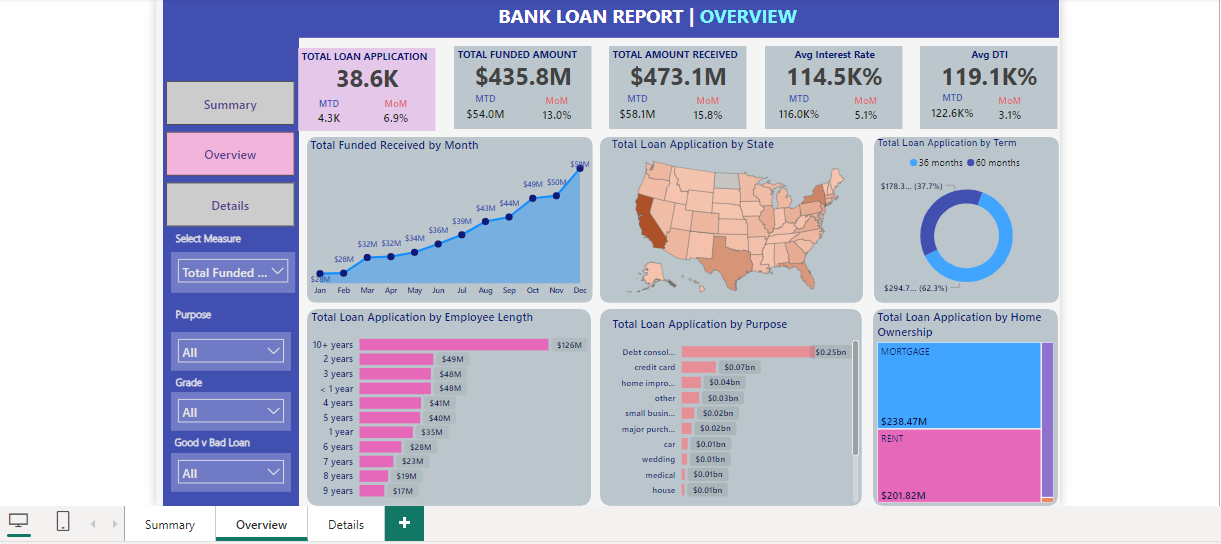

This screenshot's page, from the dashboard's own definition file:
{"tool":"powerbi","page":{"name":"Overview","canvas":[1280,720],"ordinal":1},"visuals":[{"type":"shape","box":[9.9,55.3,192.8,664.7],"z":0},{"type":"shape","box":[422,68.7,194.9,117.6],"z":0,"group":"g2"},{"type":"shape","box":[642.3,68.7,194.9,117.6],"z":0,"group":"g3"},{"type":"shape","box":[862.7,68.7,194.9,117.6],"z":0,"group":"g4"},{"type":"shape","box":[1083.1,68.7,194.9,117.6],"z":0,"group":"g5"},{"type":"shape","box":[201.6,71.5,194.9,117.6],"z":0,"group":"g1"},{"type":"shape","box":[10.1,1.7,1269.9,55.4],"z":1000},{"type":"textbox","box":[421.7,65.2,197,45.4],"z":1000,"group":"g2"},{"type":"textbox","box":[642,65.2,197,45.4],"z":1000,"group":"g3"},{"type":"textbox","box":[862.4,65.2,197,45.4],"z":1000,"group":"g4"},{"type":"textbox","box":[1082.8,65.2,197,45.4],"z":1000,"group":"g5"},{"type":"textbox","box":[201.3,68,197,45.4],"z":1000,"group":"g1"},{"type":"card","fields":{"Values":["Bank_loan_Data.Total Funded Amount"]},"box":[421.7,85,195.6,51],"z":2000,"group":"g2"},{"type":"card","fields":{"Values":["Bank_loan_Data.Total Funded Received"]},"box":[642,85,195.6,51],"z":2000,"group":"g3"},{"type":"card","fields":{"Values":["Bank_loan_Data.Avg Interest Rate"]},"box":[862.4,85,195.6,51],"z":2000,"group":"g4"},{"type":"card","fields":{"Values":["Bank_loan_Data.Avg DTI"]},"box":[1082.8,85,195.6,51],"z":2000,"group":"g5"},{"type":"card","fields":{"Values":["Bank_loan_Data.Total Loan Application"]},"box":[201.3,87.8,195.6,51],"z":2000,"group":"g1"},{"type":"shape","box":[214,197,405,235],"z":2000},{"type":"card","title":"MTD","fields":{"Values":["Bank_loan_Data.MTD Average DTI"]},"box":[1092.4,131.5,72.3,49.6],"z":3000,"group":"g5"},{"type":"card","title":"MTD","fields":{"Values":["Bank_loan_Data.MTD Funded Amount"]},"box":[433.1,133,66.6,49.6],"z":3000,"group":"g2"},{"type":"card","title":"MTD","fields":{"Values":["Bank_loan_Data.MTD Funded Received"]},"box":[646.8,133,72.3,49.6],"z":3000,"group":"g3"},{"type":"card","title":"MTD","fields":{"Values":["Bank_loan_Data.MTD Average Interest Rate"]},"box":[875.8,133,70.9,49.6],"z":3000,"group":"g4"},{"type":"card","title":"MTD","fields":{"Values":["Bank_loan_Data.MTD Loan Applications"]},"box":[216.5,140.4,56.7,45.4],"z":3000,"group":"g1"},{"type":"textbox","box":[475.4,1.7,443.5,57.1],"z":4000},{"type":"card","title":"MoM","fields":{"Values":["Bank_loan_Data.MoM Funded Amount"]},"box":[539.4,135.8,56.7,45.4],"z":4000,"group":"g2"},{"type":"card","title":"MoM","fields":{"Values":["Bank_loan_Data.MoM Funded Received"]},"box":[754.5,135.8,56.7,45.4],"z":4000,"group":"g3"},{"type":"card","title":"MoM","fields":{"Values":["Bank_loan_Data.MoM Avg Int Rate"]},"box":[977.8,135.8,56.7,45.4],"z":4000,"group":"g4"},{"type":"card","title":"MoM","fields":{"Values":["Bank_loan_Data.MoM Avg DTI"]},"box":[1182,136.1,56.7,45.4],"z":4000,"group":"g5"},{"type":"card","title":"MoM","fields":{"Values":["Bank_loan_Data.MoM Loan Application"]},"box":[311.5,140.4,56.7,45.4],"z":4000,"group":"g1"},{"type":"group","id":"g1","title":"Group 1","box":[201.3,68,197,120.5],"z":5000},{"type":"group","id":"g2","title":"Group 1","box":[421.7,65.2,197,121.1],"z":6000},{"type":"group","id":"g3","title":"Group 1","box":[642,65.2,197,121.1],"z":7000},{"type":"group","id":"g4","title":"Group 1","box":[862.4,65.2,197,121.1],"z":8000},{"type":"group","id":"g5","title":"Group 1","box":[1082.8,65.2,197,120.5],"z":9000},{"type":"shape","box":[629.3,197,372.8,235.3],"z":10000},{"type":"slicer","fields":{"Values":["Bank_loan_Data.Good v Bad Loan"]},"box":[21.3,644.9,170.1,55.3],"z":12000},{"type":"textbox","box":[21.3,613.7,170.1,31.2],"z":13000},{"type":"slicer","fields":{"Values":["Bank_loan_Data.grade"]},"box":[21.3,558.4,170.1,55.3],"z":14000},{"type":"textbox","box":[22.7,528.7,82.2,29.8],"z":15000},{"type":"slicer","fields":{"Values":["Bank_loan_Data.purpose"]},"box":[21.3,473.4,170.1,55.3],"z":16000},{"type":"textbox","box":[22.7,432.3,89.3,35.4],"z":17000},{"type":"areaChart","fields":{"Category":["Date Table.Month"],"Y":["Bank_loan_Data.Total Funded Received"]},"box":[214,197,405.4,235.3],"z":18000},{"type":"slicer","fields":{"Values":["Select Measure.Select Measure"]},"box":[21.3,360,175.7,58.1],"z":19000},{"type":"textbox","box":[22.7,324.6,131.8,35.4],"z":19001},{"type":"shapeMap","title":"Total Loan Application by State","fields":{"Category":["Bank_loan_Data.address_state"],"Value":["Bank_loan_Data.Total Funded Received"]},"box":[640.6,197,361.4,235.3],"z":19002},{"type":"shape","box":[1017.6,197,262.2,235.3],"z":19003},{"type":"donutChart","title":"Total Loan Application by Term","fields":{"Category":["Bank_loan_Data.term"],"Y":["Bank_loan_Data.Total Funded Received"]},"box":[1017.6,197,262.2,235.3],"z":19004},{"type":"shape","box":[214,440.8,402.5,279.2],"z":19005},{"type":"barChart","title":"Total Loan Application by Employee Length","fields":{"Category":["Bank_loan_Data.emp_length"],"Y":["Bank_loan_Data.Total Funded Received"]},"box":[215.4,440.8,401.1,279.2],"z":19006},{"type":"shape","box":[629.3,440.8,371.3,279.2],"z":19007},{"type":"barChart","title":"Total Loan Application by Purpose","fields":{"Category":["Bank_loan_Data.purpose"],"Y":["Bank_loan_Data.Total Funded Received"]},"box":[642,450.7,358.6,269.3],"z":19008},{"type":"shape","box":[1016.2,440.8,262.2,279.2],"z":19009},{"type":"treemap","title":"Total Loan Application by Home Ownership","fields":{"Group":["Bank_loan_Data.home_ownership"],"Values":["Bank_loan_Data.Total Funded Received"]},"box":[1017.6,440.8,259.4,279.2],"z":19010},{"type":"pageNavigator","box":[14.2,117.6,182.8,206.9],"z":19011}]}

Visuals, with their boxes on the page's 1280x720 design canvas (x1, y1, x2, y2). These are canvas units, not pixel positions in the 1221x544 screenshot, which may show the page scaled, cropped or inside an application window:
shape: bbox=[10, 55, 203, 720]
shape: bbox=[422, 69, 617, 186]
shape: bbox=[642, 69, 837, 186]
shape: bbox=[863, 69, 1058, 186]
shape: bbox=[1083, 69, 1278, 186]
shape: bbox=[202, 72, 396, 189]
shape: bbox=[10, 2, 1280, 57]
textbox: bbox=[422, 65, 619, 111]
textbox: bbox=[642, 65, 839, 111]
textbox: bbox=[862, 65, 1059, 111]
textbox: bbox=[1083, 65, 1280, 111]
textbox: bbox=[201, 68, 398, 113]
card - Bank_loan_Data.Total Funded Amount: bbox=[422, 85, 617, 136]
card - Bank_loan_Data.Total Funded Received: bbox=[642, 85, 838, 136]
card - Bank_loan_Data.Avg Interest Rate: bbox=[862, 85, 1058, 136]
card - Bank_loan_Data.Avg DTI: bbox=[1083, 85, 1278, 136]
card - Bank_loan_Data.Total Loan Application: bbox=[201, 88, 397, 139]
shape: bbox=[214, 197, 619, 432]
"MTD" card: bbox=[1092, 132, 1165, 181]
"MTD" card: bbox=[433, 133, 500, 183]
"MTD" card: bbox=[647, 133, 719, 183]
"MTD" card: bbox=[876, 133, 947, 183]
"MTD" card: bbox=[216, 140, 273, 186]
textbox: bbox=[475, 2, 919, 59]
"MoM" card: bbox=[539, 136, 596, 181]
"MoM" card: bbox=[754, 136, 811, 181]
"MoM" card: bbox=[978, 136, 1034, 181]
"MoM" card: bbox=[1182, 136, 1239, 182]
"MoM" card: bbox=[312, 140, 368, 186]
"Group 1" group: bbox=[201, 68, 398, 188]
"Group 1" group: bbox=[422, 65, 619, 186]
"Group 1" group: bbox=[642, 65, 839, 186]
"Group 1" group: bbox=[862, 65, 1059, 186]
"Group 1" group: bbox=[1083, 65, 1280, 186]
shape: bbox=[629, 197, 1002, 432]
slicer - Bank_loan_Data.Good v Bad Loan: bbox=[21, 645, 191, 700]
textbox: bbox=[21, 614, 191, 645]
slicer - Bank_loan_Data.grade: bbox=[21, 558, 191, 614]
textbox: bbox=[23, 529, 105, 558]
slicer - Bank_loan_Data.purpose: bbox=[21, 473, 191, 529]
textbox: bbox=[23, 432, 112, 468]
areaChart - Date Table.Month x Bank_loan_Data.Total Funded Received: bbox=[214, 197, 619, 432]
slicer - Select Measure.Select Measure: bbox=[21, 360, 197, 418]
textbox: bbox=[23, 325, 154, 360]
"Total Loan Application by State" shapeMap: bbox=[641, 197, 1002, 432]
shape: bbox=[1018, 197, 1280, 432]
"Total Loan Application by Term" donutChart: bbox=[1018, 197, 1280, 432]
shape: bbox=[214, 441, 616, 720]
"Total Loan Application by Employee Length" barChart: bbox=[215, 441, 616, 720]
shape: bbox=[629, 441, 1001, 720]
"Total Loan Application by Purpose" barChart: bbox=[642, 451, 1001, 720]
shape: bbox=[1016, 441, 1278, 720]
"Total Loan Application by Home Ownership" treemap: bbox=[1018, 441, 1277, 720]
pageNavigator: bbox=[14, 118, 197, 324]
